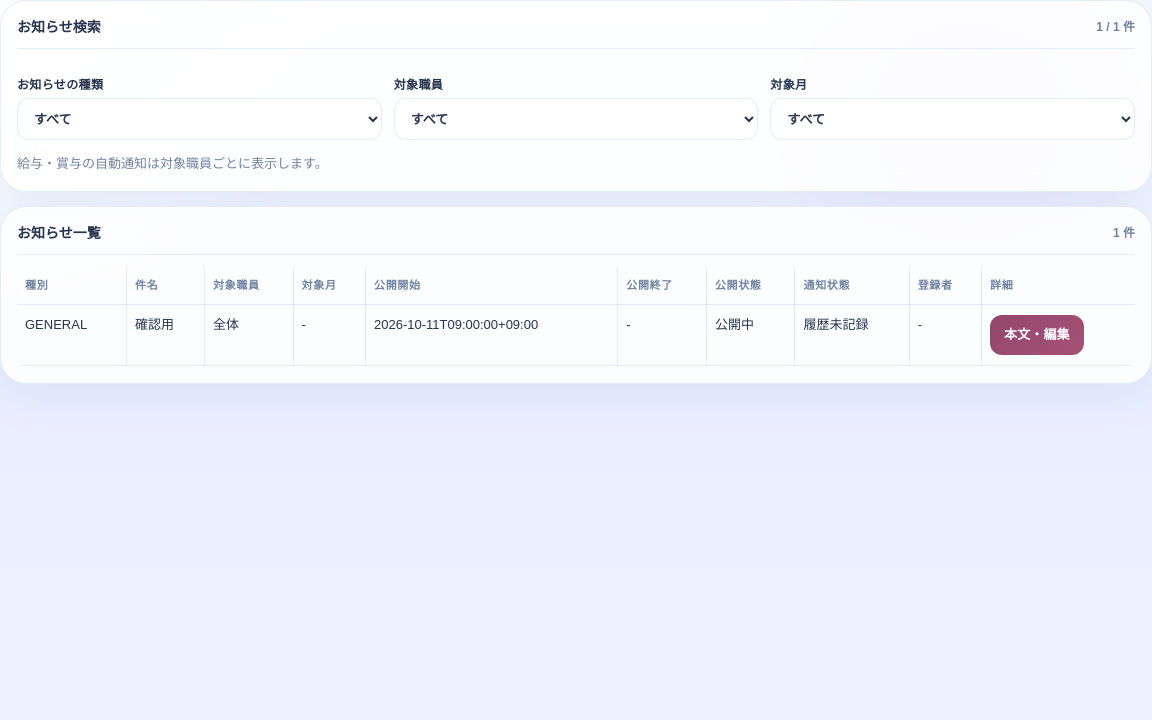
Scenario: NoticesSection › 本文を確認し、最新版番号で編集・公開停止する
Click the button "本文・編集" at point(1037, 335), box [990,315,1084,355]
(page scrolled)
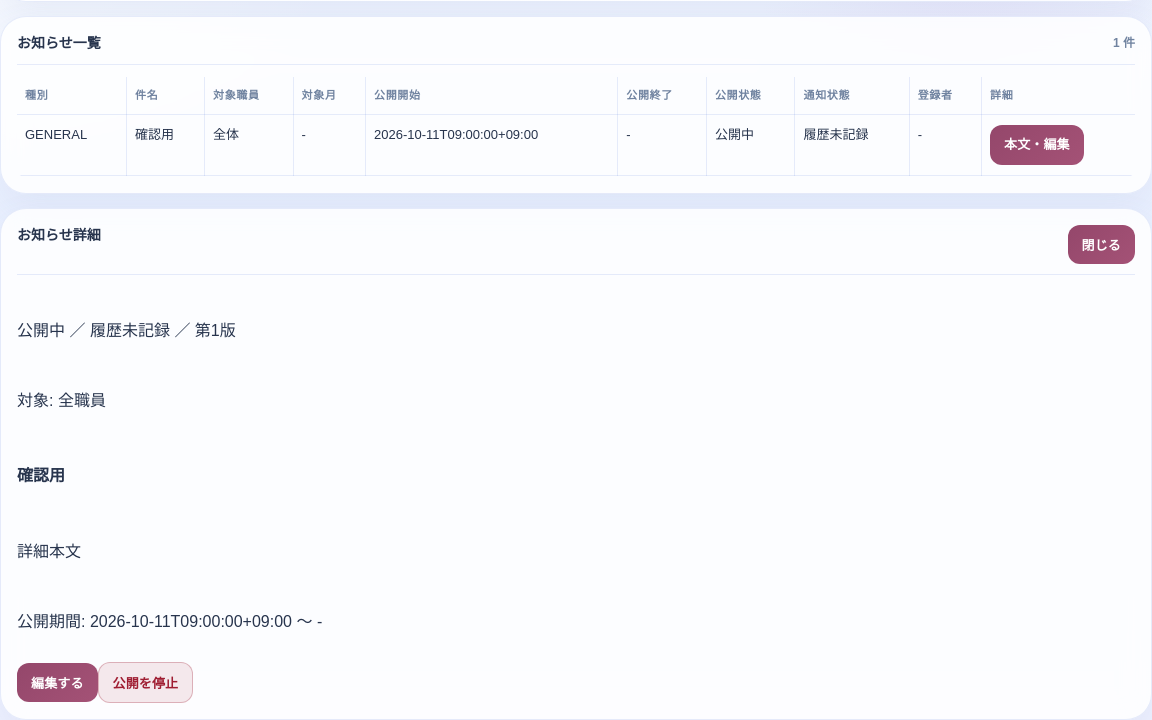
Now the text "詳細本文" is shown, box [17,542,81,560]
Click the button "編集する" at point(57, 682), box [17,662,98,702]
(page scrolled)
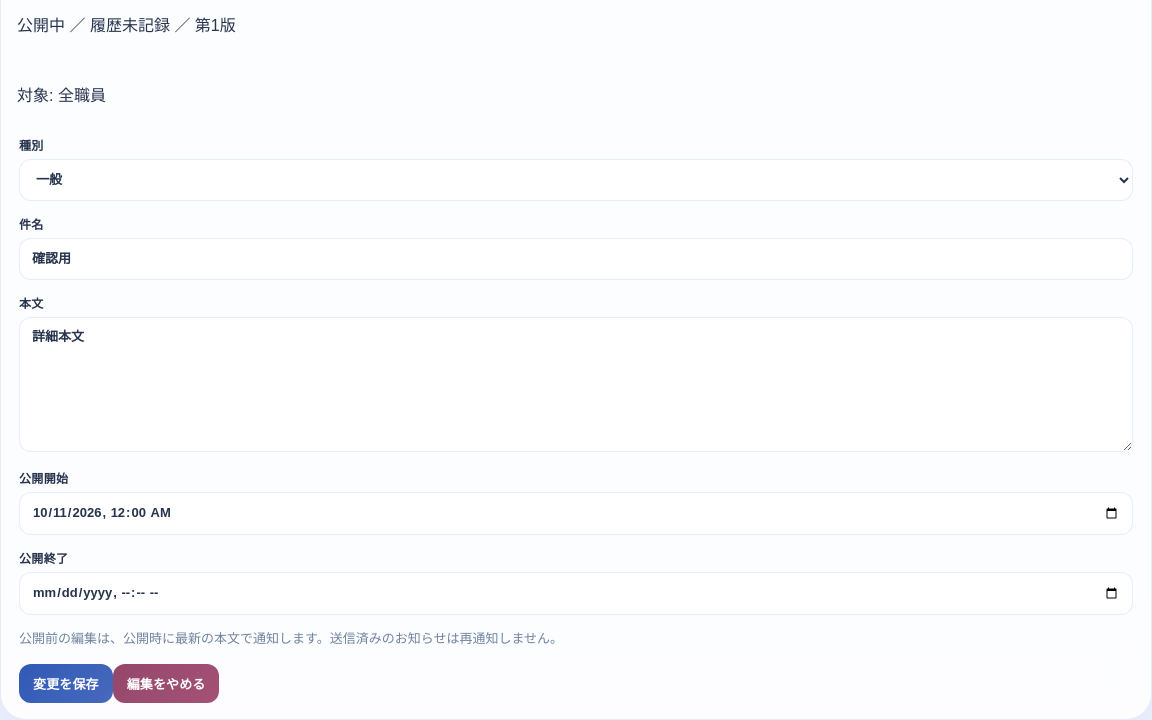
Replace the text in the text box labelled "本文" with "変更本文" at point(576, 385), box [19,317,1133,452]
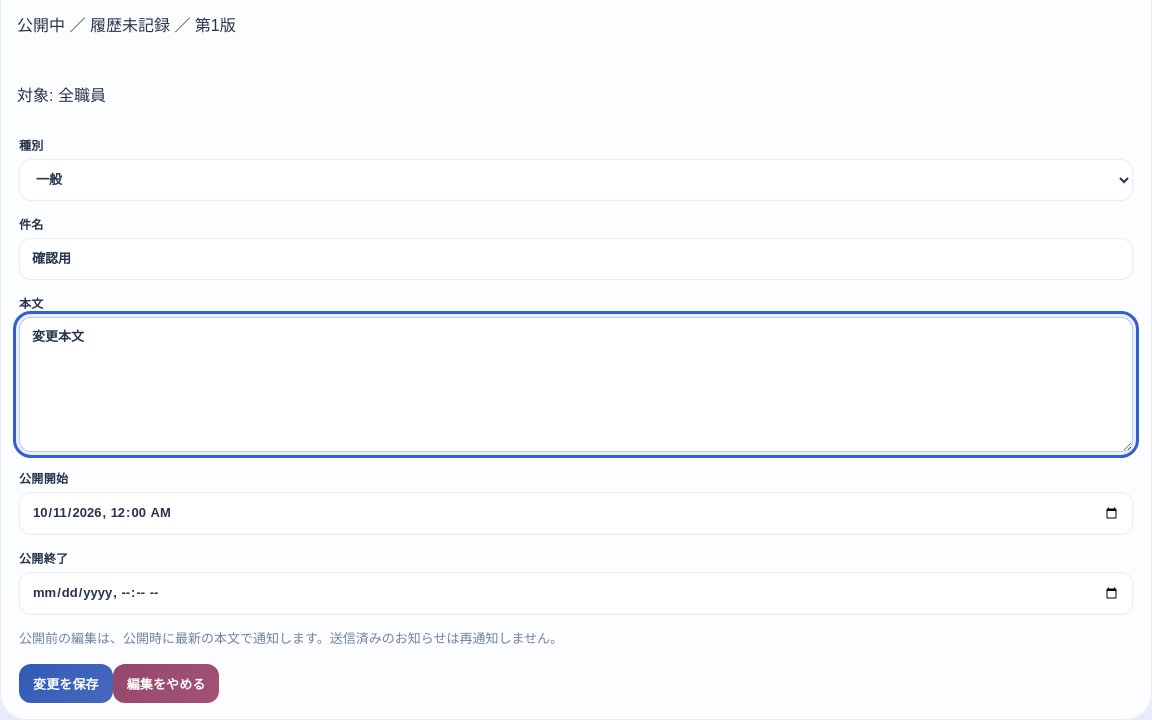
Click the button "変更を保存" at point(66, 683), box [19,664,113,702]
(page scrolled)
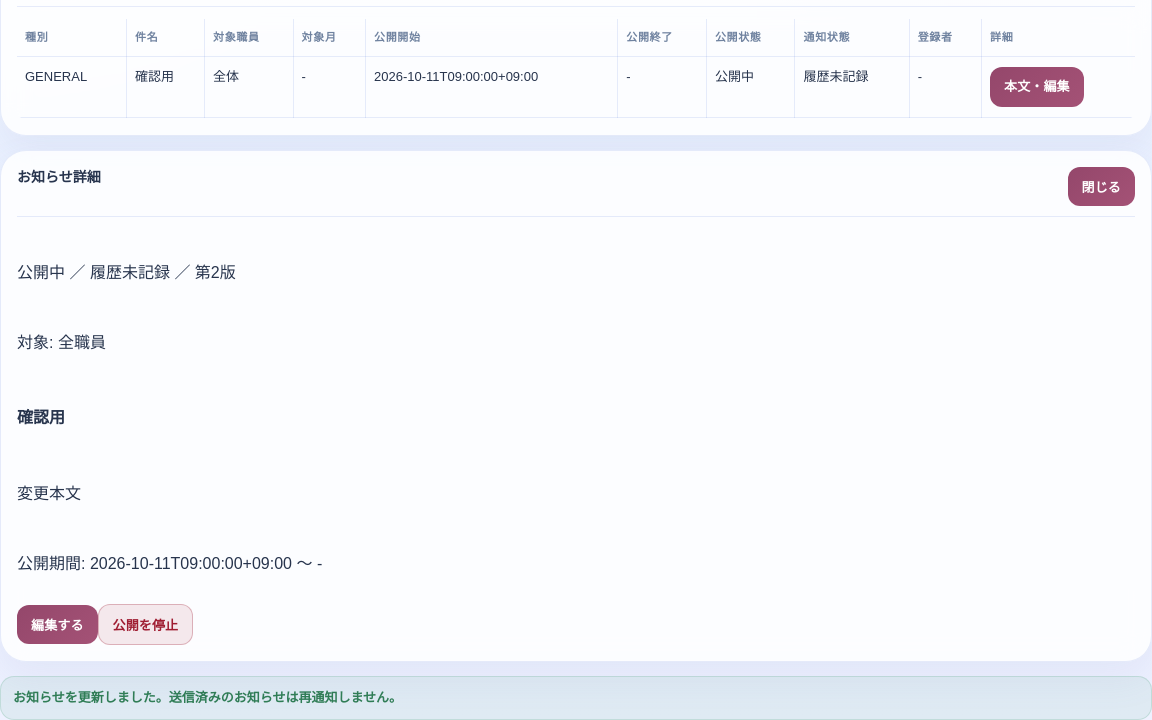
Now the text "変更本文" is shown, box [17,484,81,502]
Click the button "公開を停止" at point(145, 624), box [98,604,193,644]
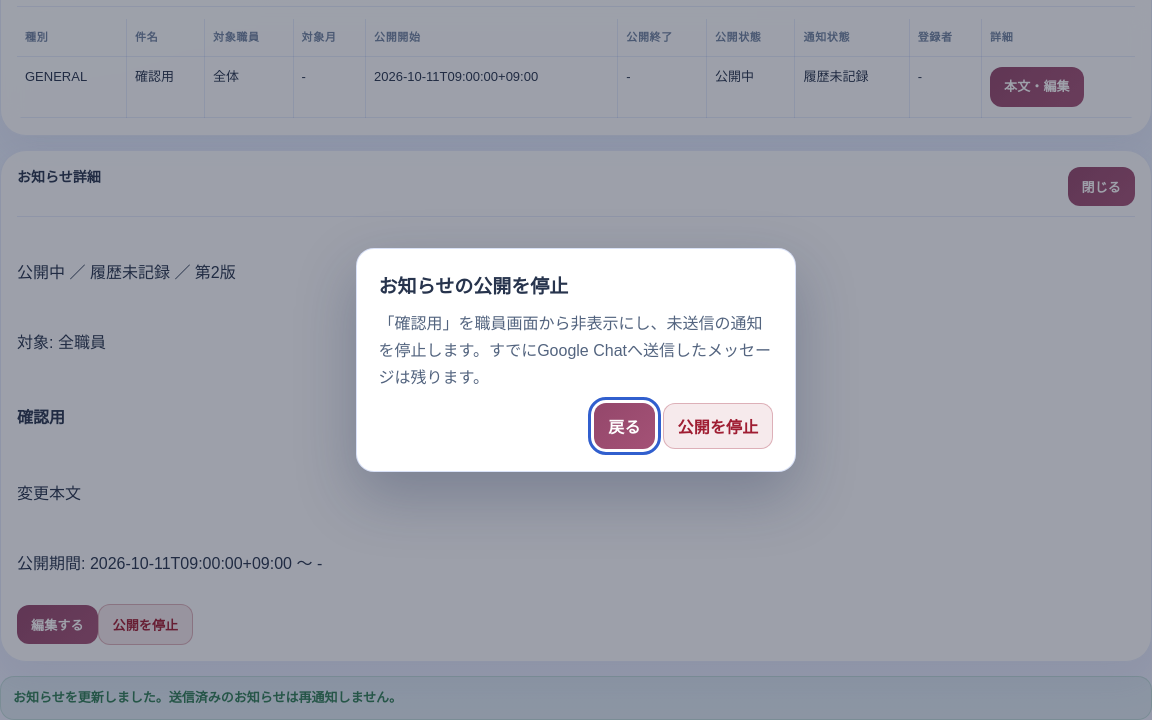
Click the button "公開を停止" at point(718, 426), box [663,403,773,449]
(page scrolled)
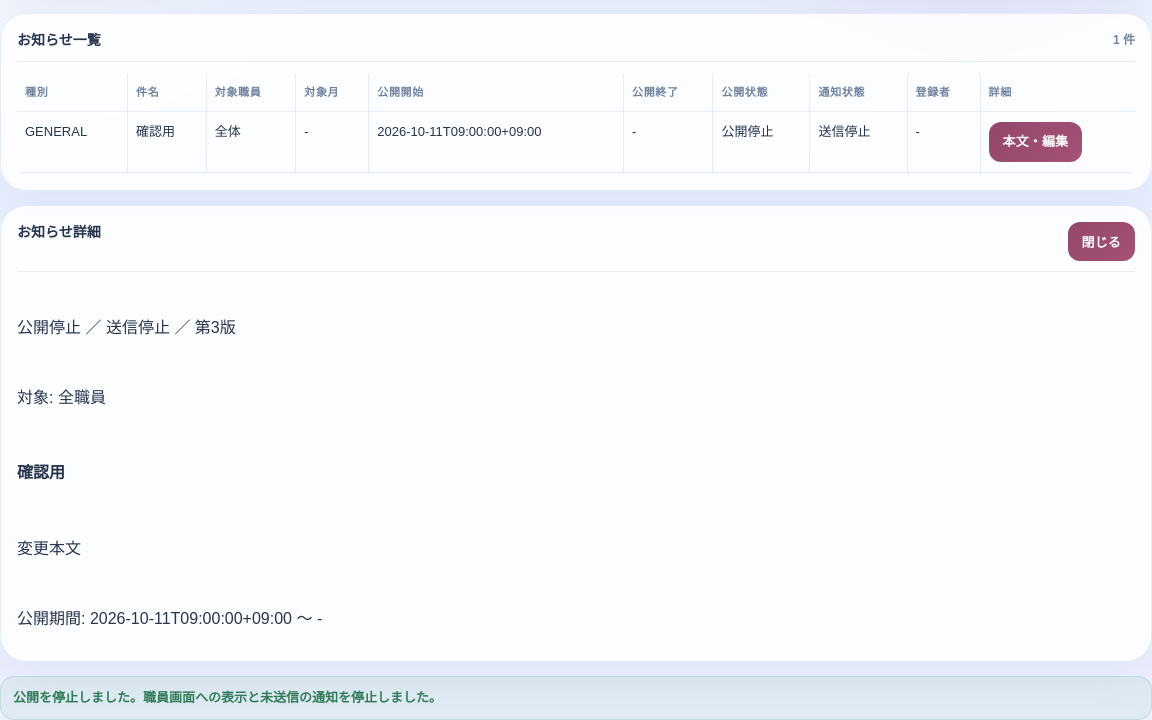
Now the text "公開を停止しました。職員画面への表示と未送信の通知を停止しました。" is shown, box [0,676,1151,719]
Now the button "編集する" is gone
